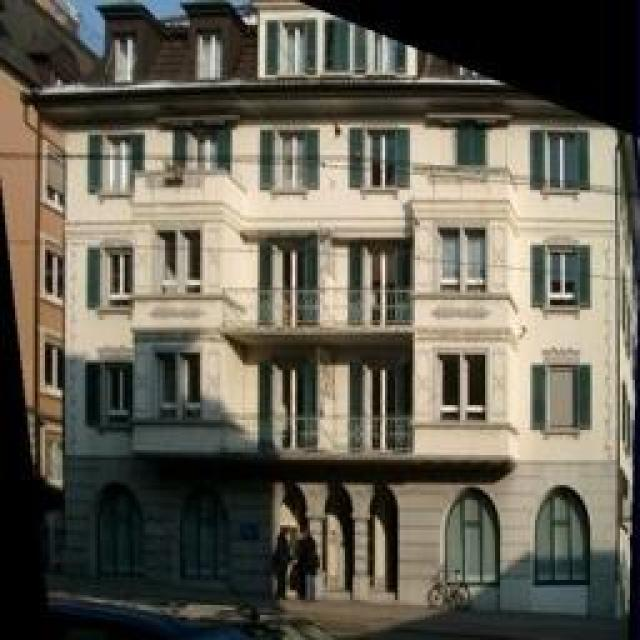building: (70, 2, 640, 640)
